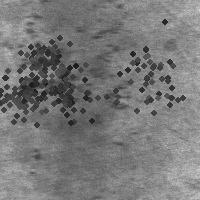rolled-in_scale: (86, 16, 200, 134), (9, 2, 93, 103), (21, 46, 109, 134), (75, 1, 133, 113), (6, 26, 76, 96), (0, 58, 54, 124)
